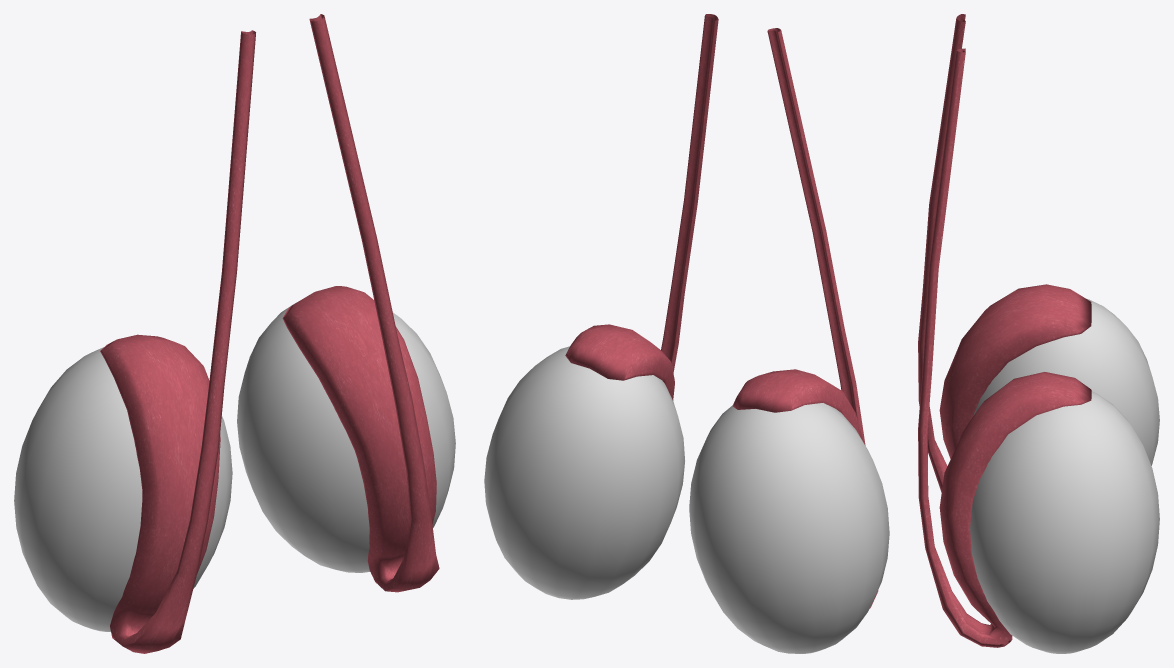
Rendered from Testis + Epididirmis.glb.
3 views of the same model, side by side, from view 1: azimuth 30°, elevation 25°; view 2: azimuth 150°, elevation 25°; view 3: azimuth 270°, elevation 25° (orthographic). The views are drawn at different scales.
Visible parts, largest first — view 1: Epididirmis, Epididirmis.001, Testis.001, Testis; view 2: Testis.001, Testis, Epididirmis.001, Epididirmis; view 3: Testis, Epididirmis.001, Epididirmis, Testis.001.
Part boxes in pixels (x1,y1,x2,y2): Epididirmis: [100, 30, 255, 653]; Epididirmis.001: [282, 14, 439, 592]; Testis.001: [14, 347, 232, 631]; Testis: [237, 302, 455, 572]; Testis.001: [689, 403, 889, 653]; Testis: [484, 346, 684, 599]; Epididirmis.001: [565, 14, 718, 400]; Epididirmis: [732, 28, 878, 608]; Testis: [970, 391, 1159, 653]; Epididirmis.001: [918, 48, 1091, 647]; Epididirmis: [918, 14, 1091, 492]; Testis.001: [973, 299, 1159, 465].
Size of the model in its own units: 3.01 by 4.31 by 1.69.
2 materials, 1 textured.
